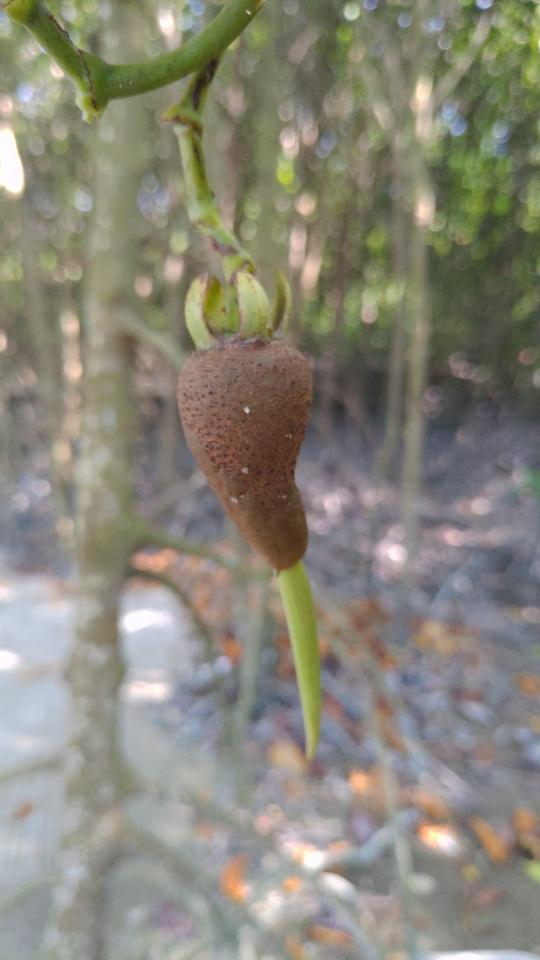mentah: (157, 249, 339, 778)
